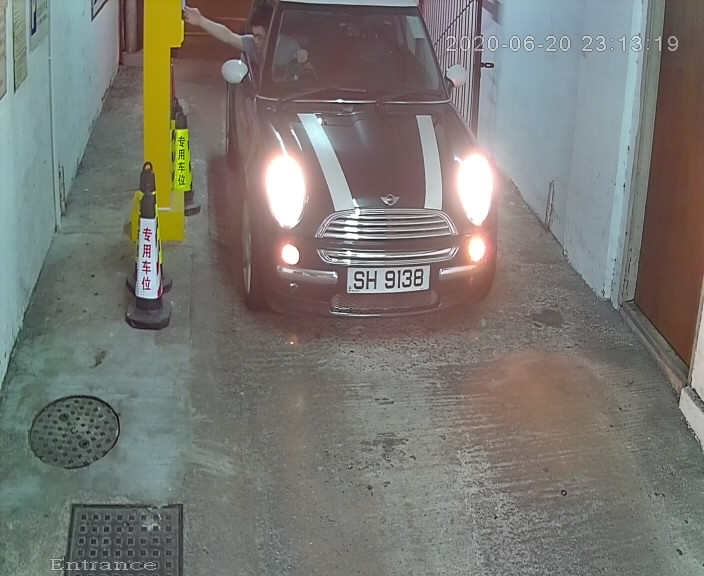privatecar: (205, 1, 522, 365)
